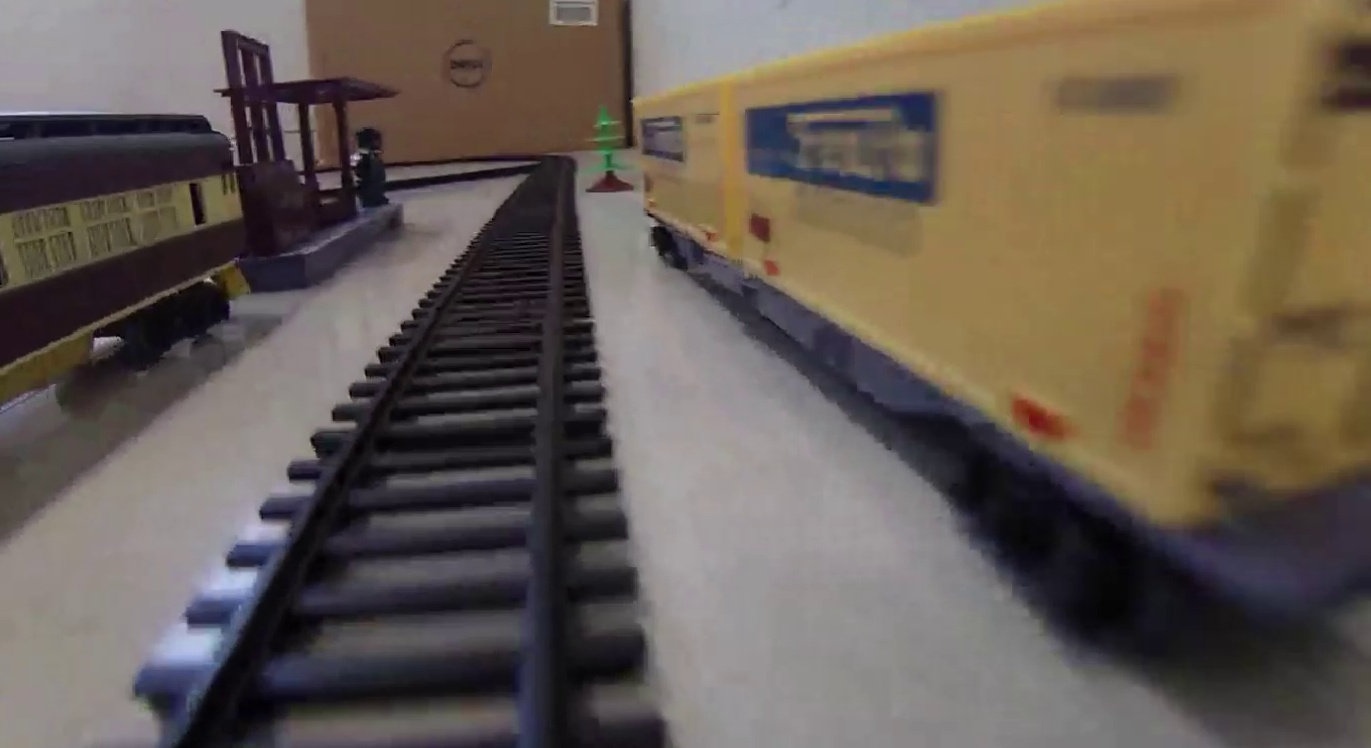people: (349, 126, 391, 208)
tree: (584, 106, 632, 194)
